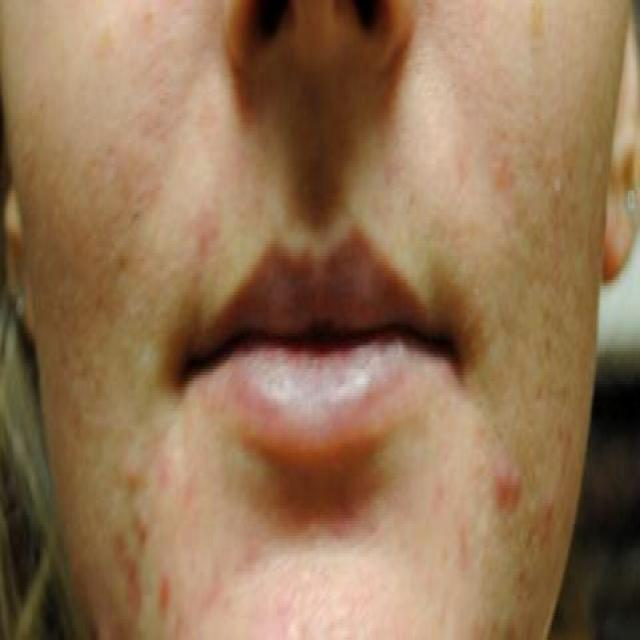Pimples: (494, 444, 524, 509), (550, 173, 562, 208), (115, 241, 126, 274)
